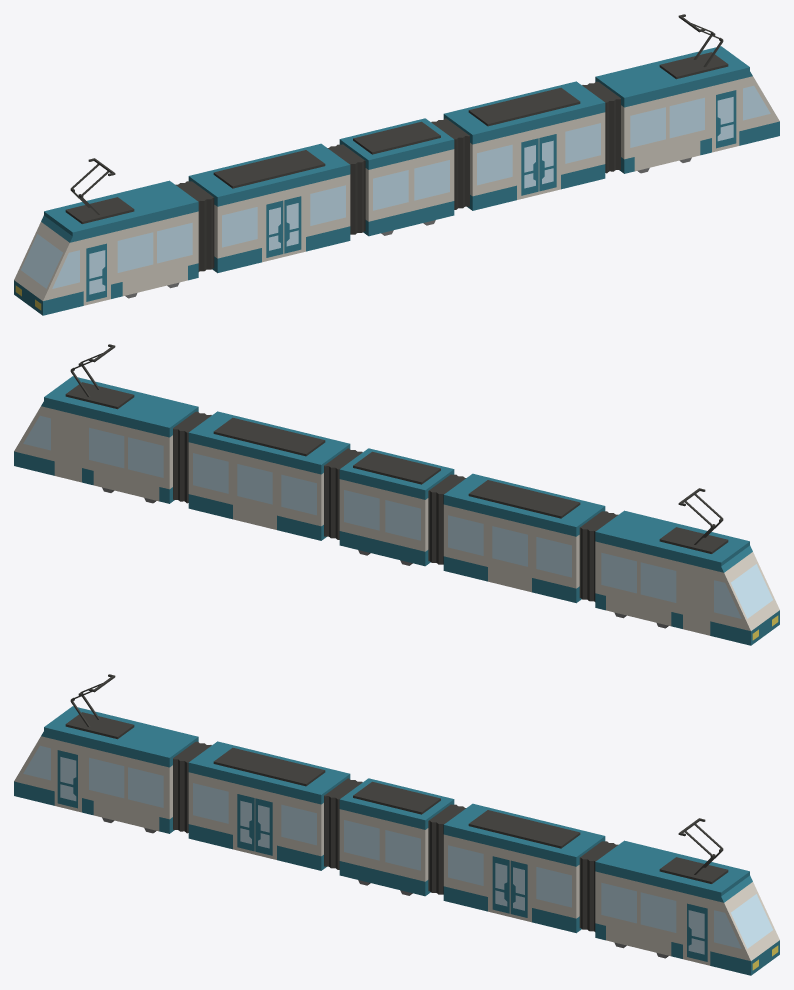
The model's file is Tram_1.fbx.
3 renders of one model, top to bottom at view 1: azimuth 30°, elevation 25°; view 2: azimuth 150°, elevation 25°; view 3: azimuth 330°, elevation 25°, orthographic.
Visible parts, largest first — view 1: Tram_1; view 2: Tram_1; view 3: Tram_1.
Boxes of the visible parts, left/top/right/bottom form: Tram_1: left=14, top=14, right=779, bottom=315; Tram_1: left=14, top=344, right=779, bottom=645; Tram_1: left=14, top=674, right=779, bottom=975.
Size of the model in its own units: 42.9 by 7.04 by 2.92.
1 material, 1 textured.
